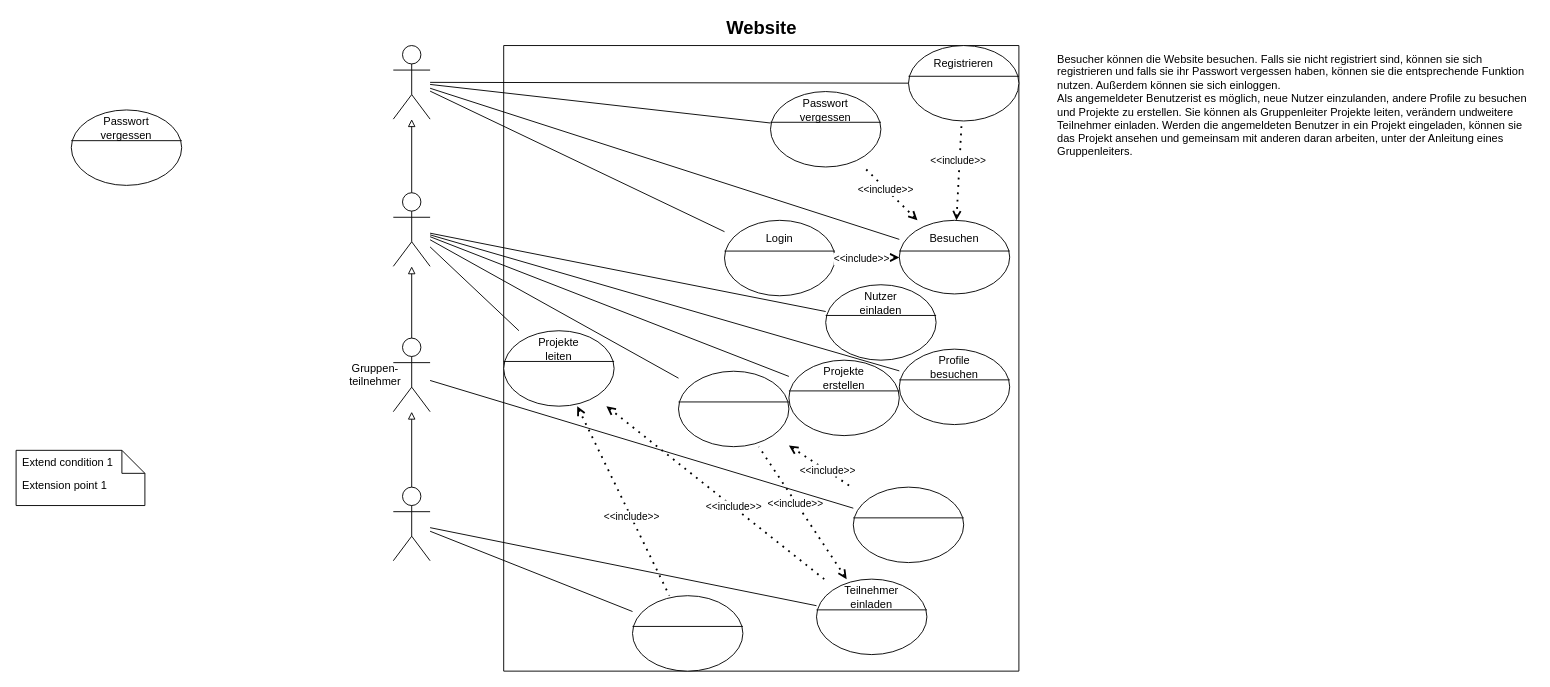
The diagram is 1550 pixels wide and 687 high, and some of its shapes have lost their labels. Each missing label, with the box of its shape:
Angemeldeter Benutzer: (392, 192, 430, 266)
Besucher: (392, 45, 430, 119)
Gruppen- leiter: (392, 486, 430, 561)
Projekte besuchen: (852, 486, 964, 563)
Projekte teilnehmen: (678, 370, 789, 447)
Projekte verändern: (632, 595, 743, 671)
